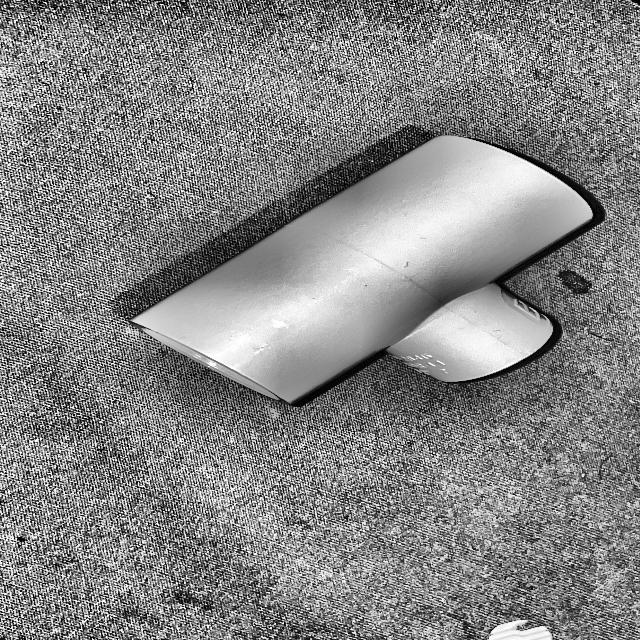EQUALTEE: (129, 136, 603, 407)
